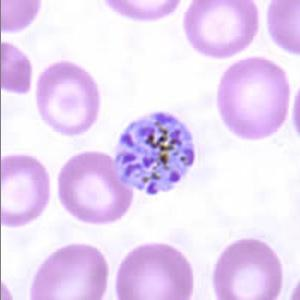Infected: (116, 111, 195, 195)
Uninfected: (216, 56, 292, 141), (58, 151, 133, 224), (29, 243, 110, 300), (37, 61, 99, 135), (117, 242, 194, 300), (183, 0, 258, 58), (212, 240, 281, 300), (0, 153, 52, 227)
